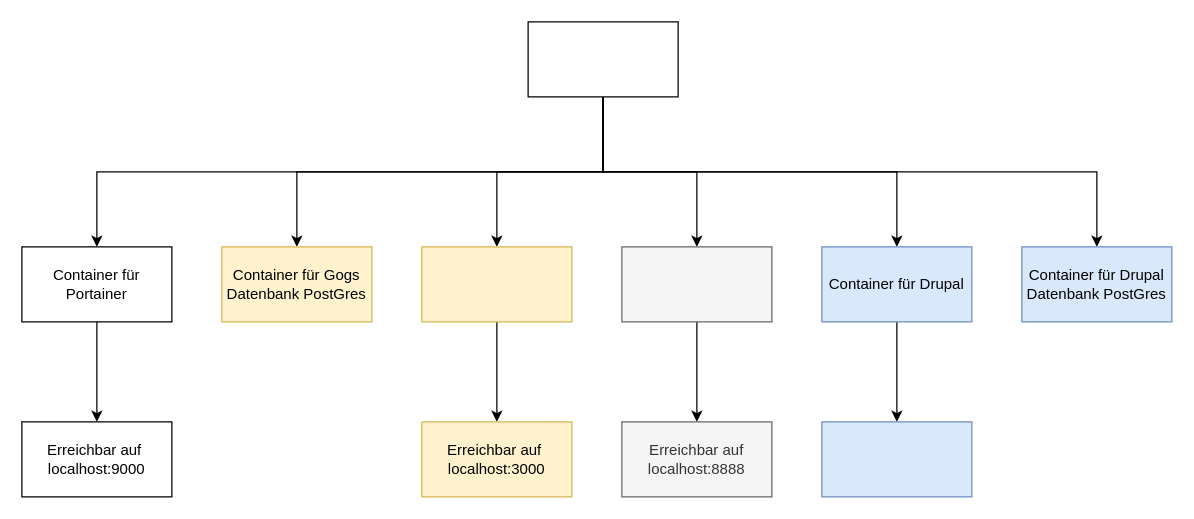
Image size: 1194x519. Some labels were removed from this diagram. Here are the shapes that lost their labels. From the top down, the centre of each, then its label:
At [602,59]: "Bridge Network net_project_lb".
At [496,284]: "Container für Gogs".
At [696,284]: "Container für Jupyter".
At [896,459]: "Erreichbar auf localhost:8080".
